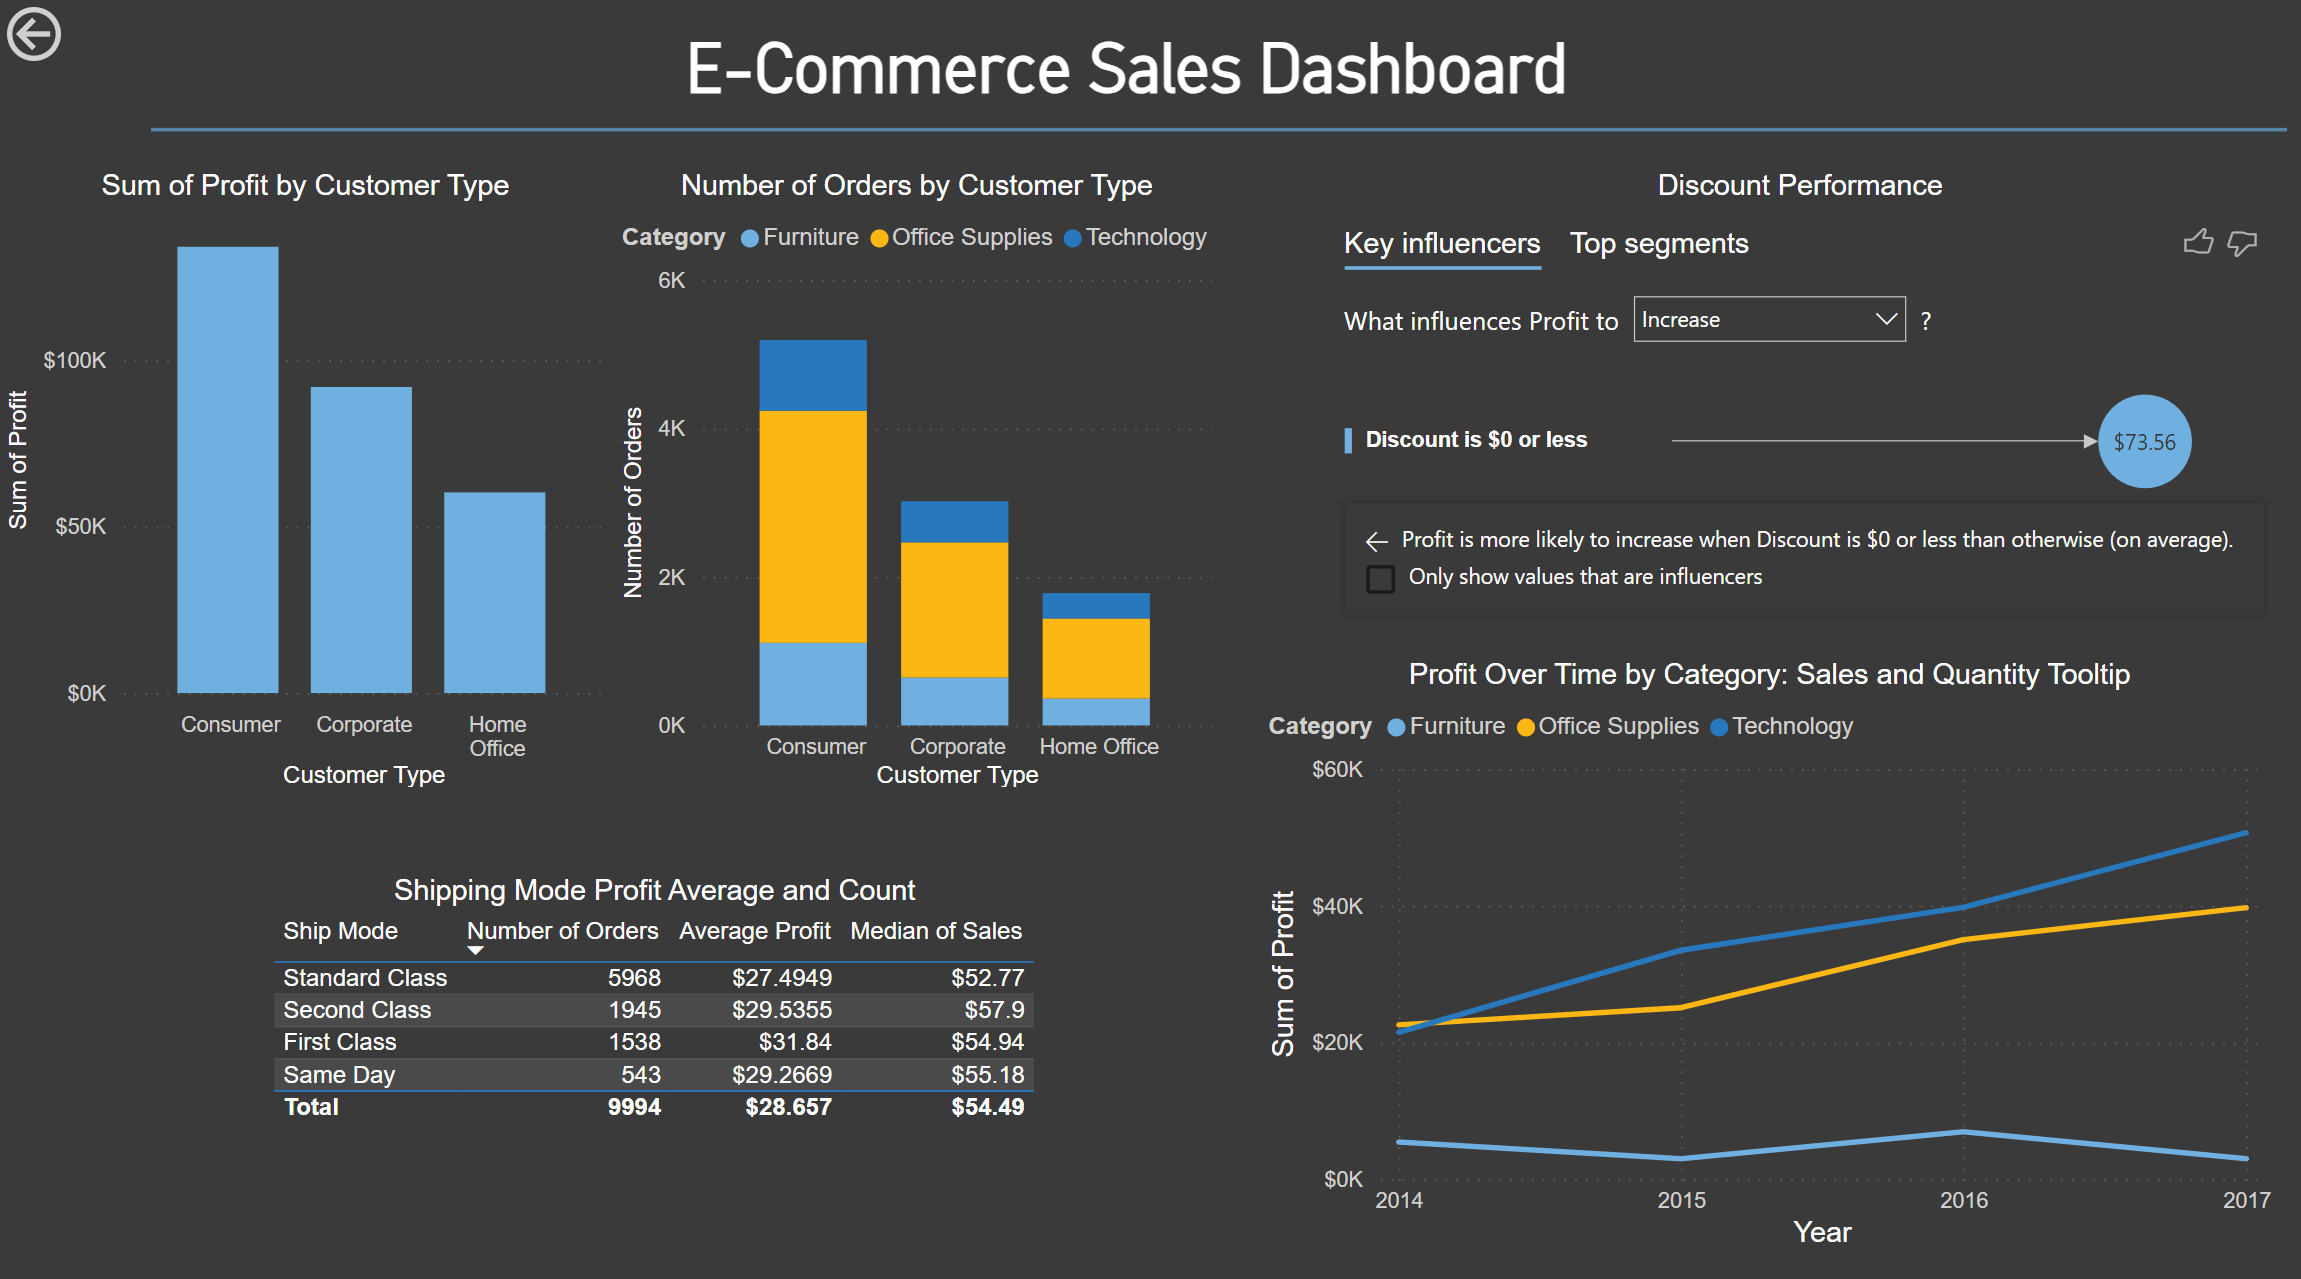

What the dashboard file says about the page in this screenshot:
{"tool":"powerbi","page":{"name":"E-commerce Sales Analysis","canvas":[1280,720],"ordinal":1},"visuals":[{"type":"lineChart","title":"Profit Over Time by Category: Sales and Quantity Tooltip","fields":{"Category":["Sales.Order Date.Variation.Date Hierarchy.Year","Sales.Order Date.Variation.Date Hierarchy.Quarter"],"Series":["Sales.Category"],"Y":["Sum(Sales.Profit)"]},"box":[700.8,366.9,566.9,332.3],"z":0},{"type":"actionButton","box":[0,0,100,40],"z":1000},{"type":"keyDriversVisual","title":"Discount Performance","fields":{"Target":["Sales.Profit"],"ExplainBy":["Sales.Discount"]},"box":[730.8,95,540.8,265],"z":2000},{"type":"clusteredColumnChart","fields":{"Category":["Customers.Segment"],"Y":["Sum(Sales.Profit)"]},"box":[0,95.4,341.5,348.5],"z":3000},{"type":"tableEx","title":"Shipping Mode Profit Average and Count","fields":{"Values":["Sales.Ship Mode","CountNonNull(Sales.Order Line)","Avg(Sales.Profit)","Median(Sales.Sales)"]},"box":[147.7,486.9,434.6,167.7],"z":4000},{"type":"columnChart","title":"Number of Orders by Customer Type","fields":{"Category":["Customers.Segment"],"Y":["CountNonNull(Sales.Order Line)"],"Series":["Sales.Category"]},"box":[341.5,95.4,337.7,348.5],"z":5000},{"type":"shape","box":[85.4,50.8,1186.9,44.6],"z":6000},{"type":"textbox","box":[377.7,10.8,524.6,59.2],"z":7000}]}

Visuals, with their boxes in screenshot pixels (x1, y1, x2, y2), scaled from the page's 1280x720 canvas onto the 2301x1279 screenshot:
"Profit Over Time by Category: Sales and Quantity Tooltip" lineChart: {"x1": 1260, "y1": 652, "x2": 2279, "y2": 1242}
actionButton: {"x1": 0, "y1": 0, "x2": 180, "y2": 71}
"Discount Performance" keyDriversVisual: {"x1": 1314, "y1": 169, "x2": 2286, "y2": 640}
clusteredColumnChart - Customers.Segment x Sum(Sales.Profit): {"x1": 0, "y1": 169, "x2": 614, "y2": 789}
"Shipping Mode Profit Average and Count" tableEx: {"x1": 266, "y1": 865, "x2": 1047, "y2": 1163}
"Number of Orders by Customer Type" columnChart: {"x1": 614, "y1": 169, "x2": 1221, "y2": 789}
shape: {"x1": 154, "y1": 90, "x2": 2287, "y2": 169}
textbox: {"x1": 679, "y1": 19, "x2": 1622, "y2": 124}
